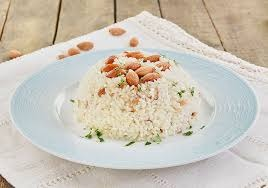pirinc_pilavi: (72, 51, 200, 144)
